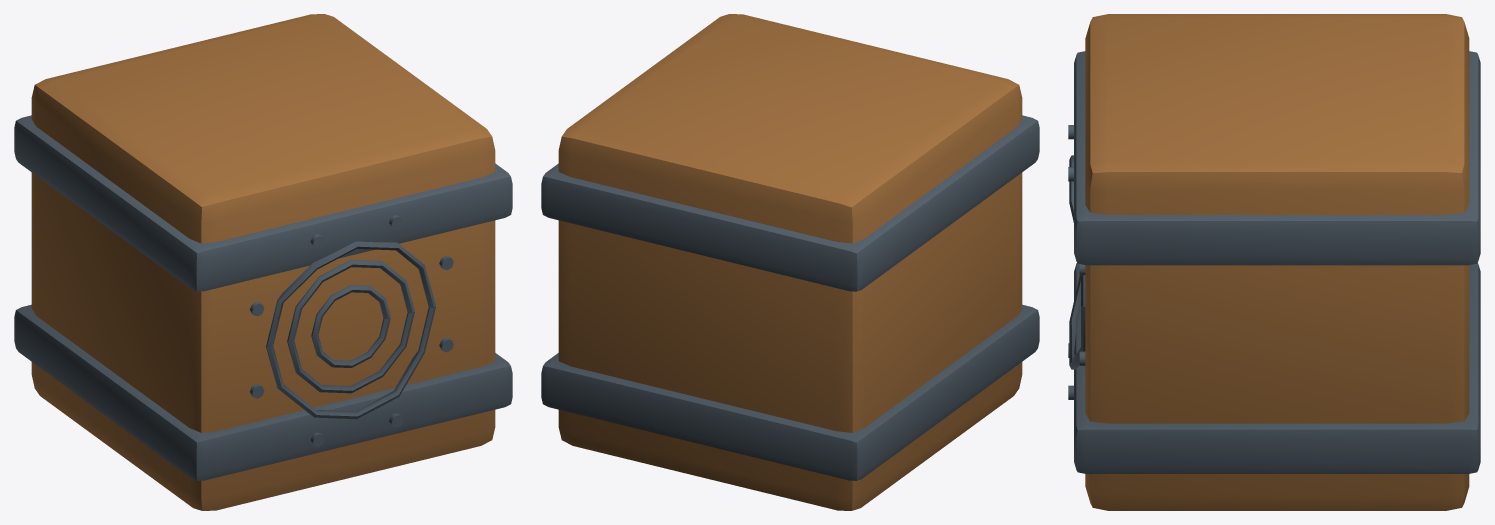
The model's file is wooden-crate.glb.
3 views of the same model, side by side, from view 1: azimuth 30°, elevation 25°; view 2: azimuth 150°, elevation 25°; view 3: azimuth 270°, elevation 25° (orthographic). The views are drawn at different scales.
Visible parts, largest first — view 1: root_mesh; view 2: root_mesh; view 3: root_mesh.
Part boxes in pixels (x1,y1,x2,y2): root_mesh: [14, 14, 512, 510]; root_mesh: [541, 14, 1039, 510]; root_mesh: [1068, 14, 1480, 510].
Bounding box in the file's own units: 1.27 × 1.2 × 1.29.
